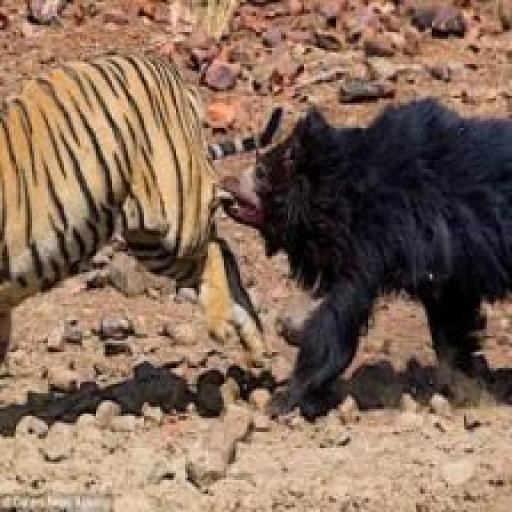Tiger: (0, 50, 278, 400)
